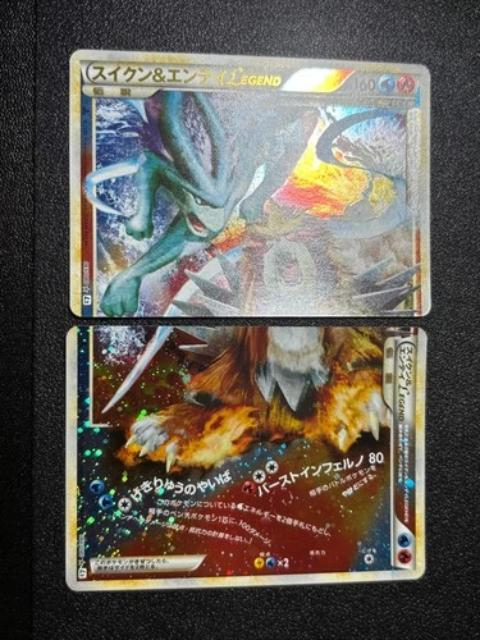Card: (65, 46, 435, 320), (62, 323, 431, 597)
Name: (85, 64, 290, 95), (394, 342, 419, 426)
